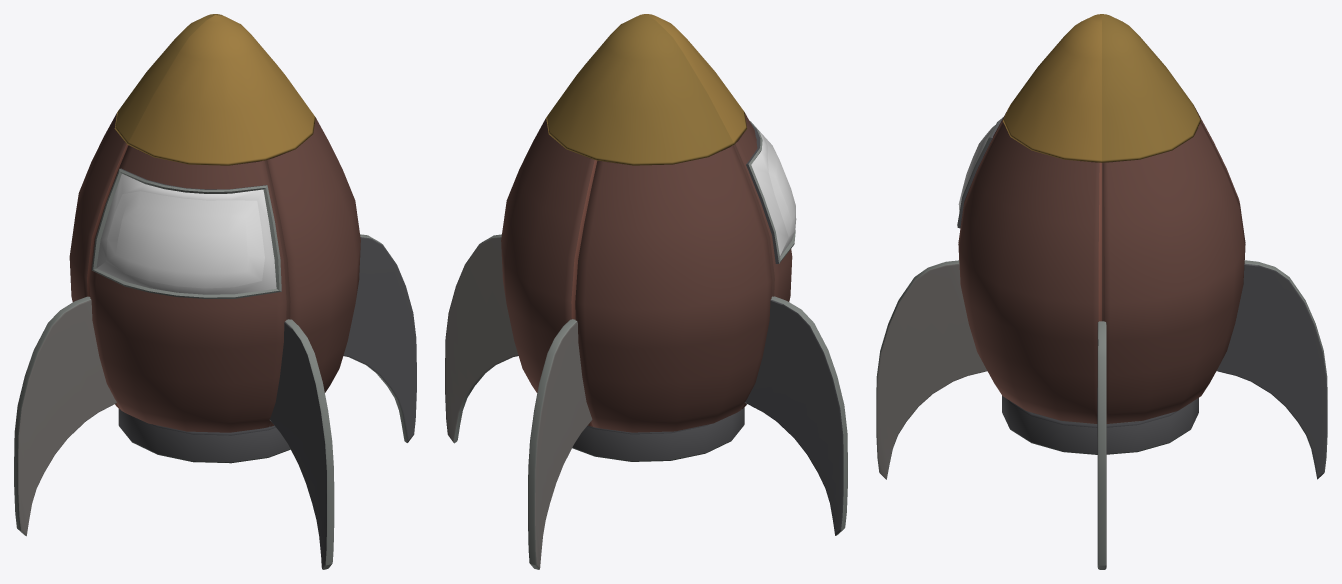
File: Spaceship.fbx
3 renders of one model, left to right at view 1: azimuth 30°, elevation 25°; view 2: azimuth 150°, elevation 25°; view 3: azimuth 270°, elevation 25°, orthographic. The views are drawn at different scales.
Visible parts, largest first — view 1: SpaceShip; view 2: SpaceShip; view 3: SpaceShip.
Boxes of the visible parts, x1,y1,x2,y2 form: SpaceShip: (14,14,416,569); SpaceShip: (445,14,847,569); SpaceShip: (876,14,1327,569).
Size of the model in its own units: 2.61 by 2.96 by 2.61.
Materials: 1 (1 with a texture image).
